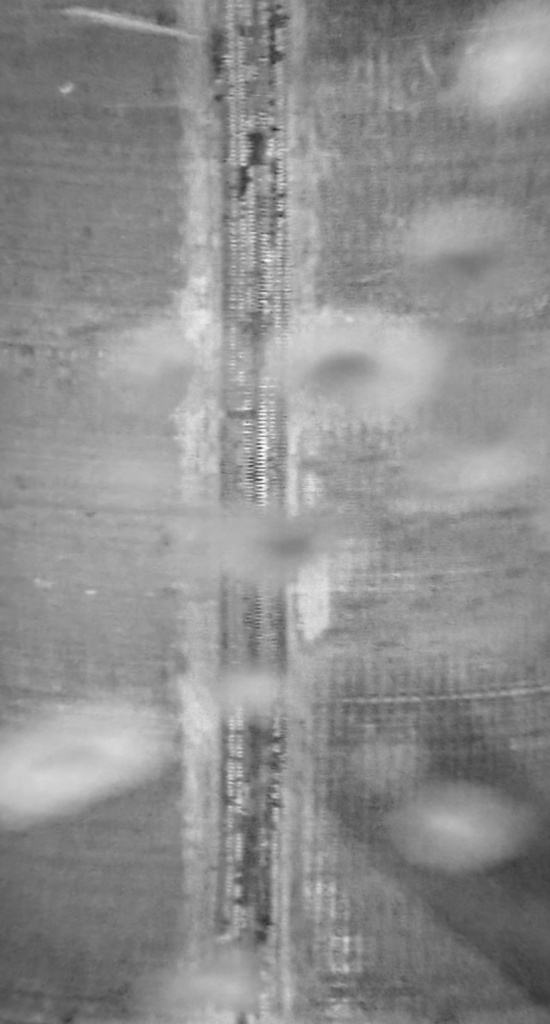splice: (209, 1, 306, 1023)
